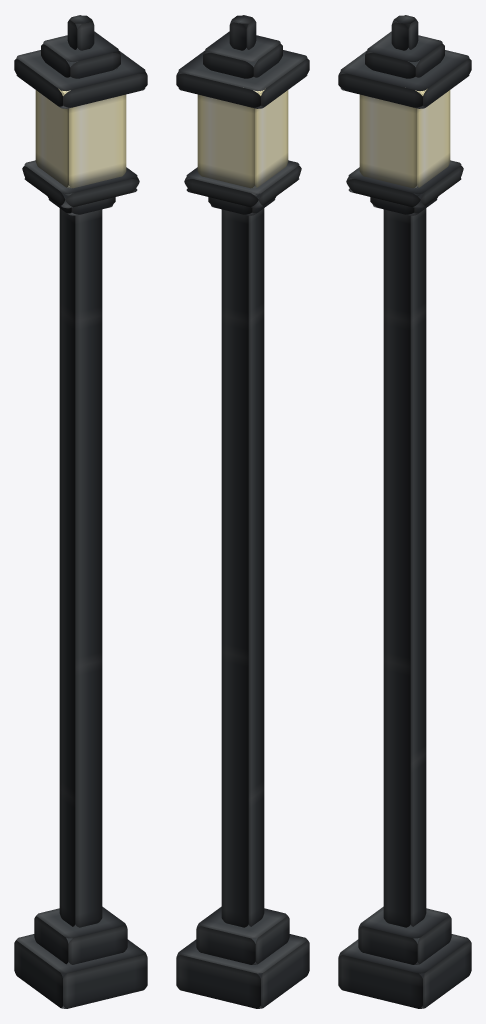
Rendered from Farola_Parque.fbx.
3 views of the same model, side by side, from view 1: azimuth 30°, elevation 25°; view 2: azimuth 150°, elevation 25°; view 3: azimuth 330°, elevation 25° (orthographic).
Parts seen in each view (by area): view 1: Farola_Parque; view 2: Farola_Parque; view 3: Farola_Parque.
Part boxes in pixels (x1=…): Farola_Parque: x1=14, y1=15, x2=147, y2=1008; Farola_Parque: x1=176, y1=15, x2=309, y2=1008; Farola_Parque: x1=338, y1=15, x2=471, y2=1008.
Bounding box in the file's own units: 0.3125 × 3.39 × 0.3125.
1 material, 1 textured.
